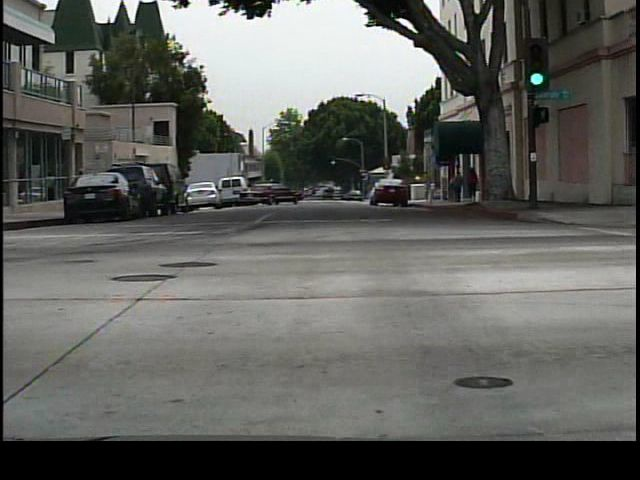person: (466, 163, 484, 207), (447, 172, 468, 207)
